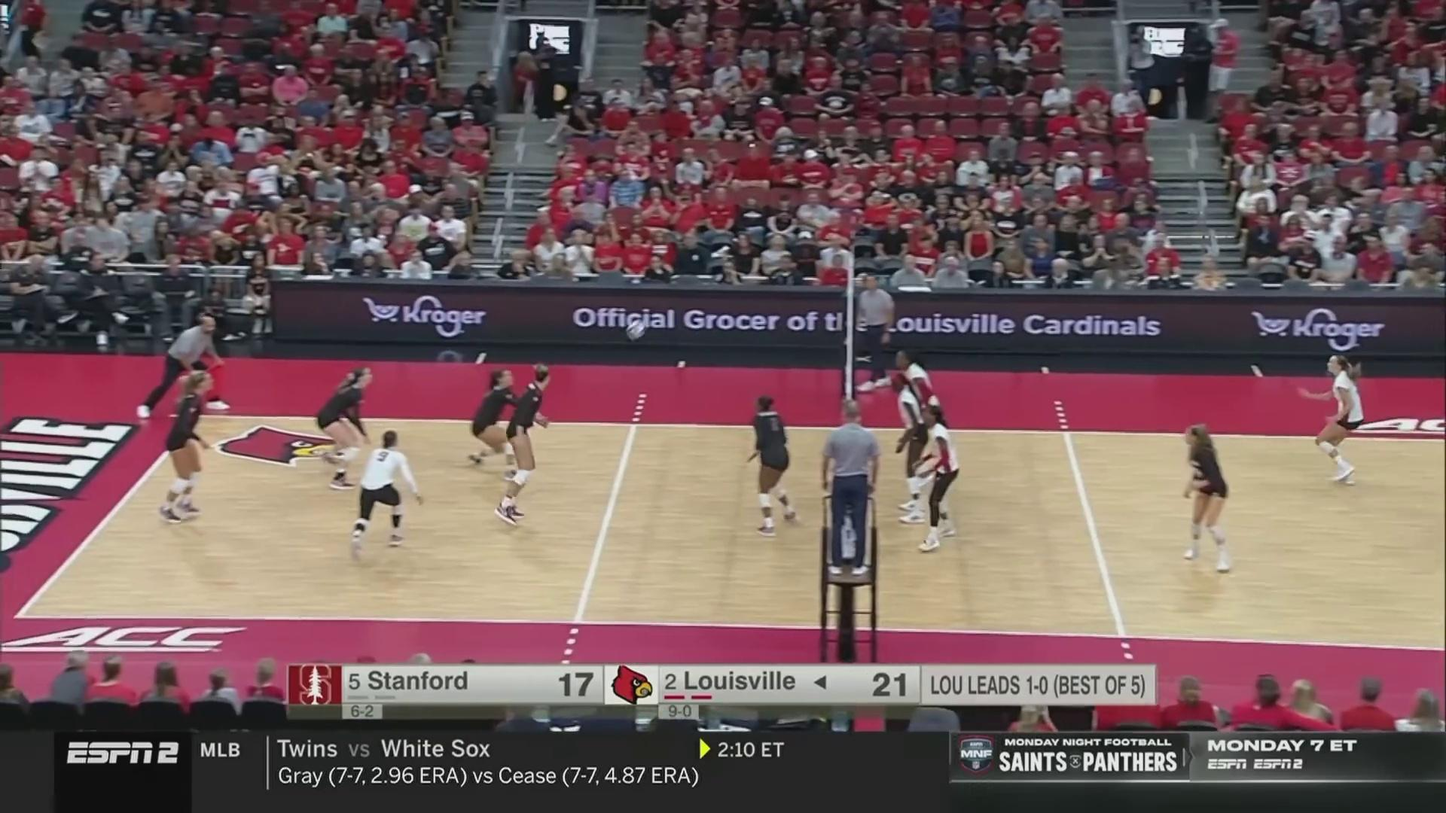player: (156, 366, 215, 523), (349, 431, 423, 549), (500, 365, 550, 528), (748, 397, 804, 532), (317, 370, 378, 488), (1313, 358, 1365, 488), (891, 352, 942, 483), (1183, 428, 1228, 573), (472, 367, 528, 479), (921, 403, 961, 548), (891, 373, 928, 524)
refree: (815, 412, 881, 572), (132, 317, 231, 415), (856, 276, 895, 394)
